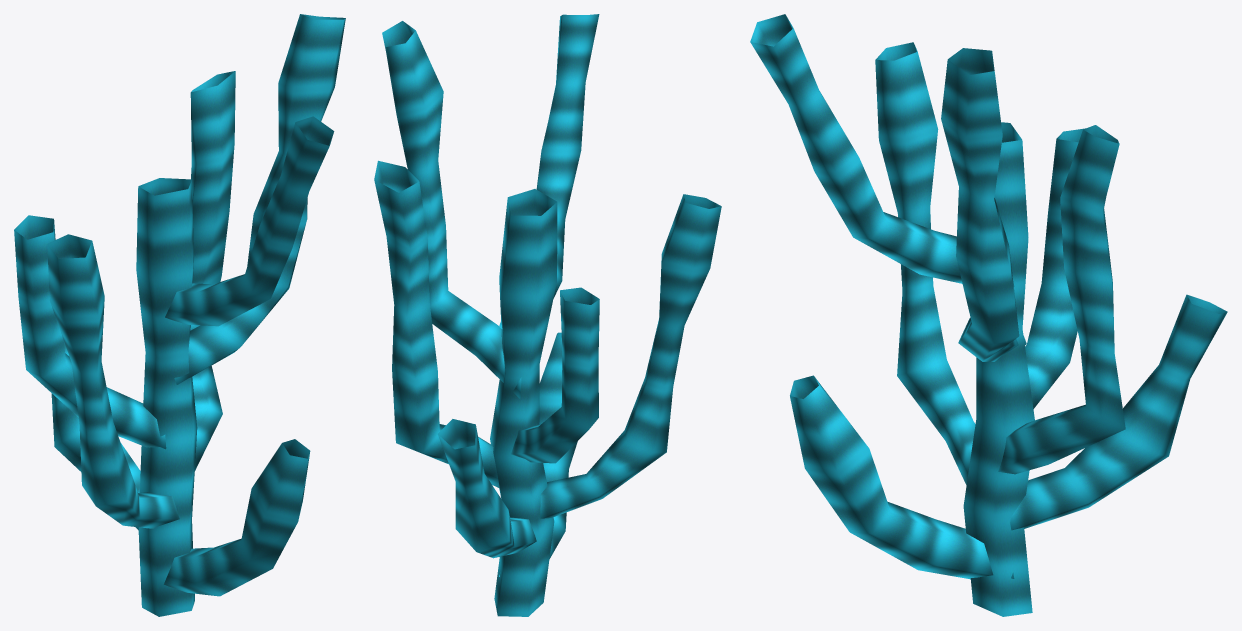
File: SG_envProp_Coral4v1.FBX
The picture shows the model from 3 angles, left to right: view 1: azimuth 30°, elevation 25°; view 2: azimuth 150°, elevation 25°; view 3: azimuth 270°, elevation 25°; orthographic projection. The views are drawn at different scales.
Visible parts, largest first — view 1: SG_envProp_Coral4v1; view 2: SG_envProp_Coral4v1; view 3: SG_envProp_Coral4v1.
Boxes of the visible parts, x1,y1,x2,y2 form: SG_envProp_Coral4v1: [14, 14, 345, 616]; SG_envProp_Coral4v1: [374, 14, 721, 616]; SG_envProp_Coral4v1: [750, 14, 1227, 616].
Size of the model in its own units: 64.65 by 109 by 75.08.
1 material, 1 textured.
